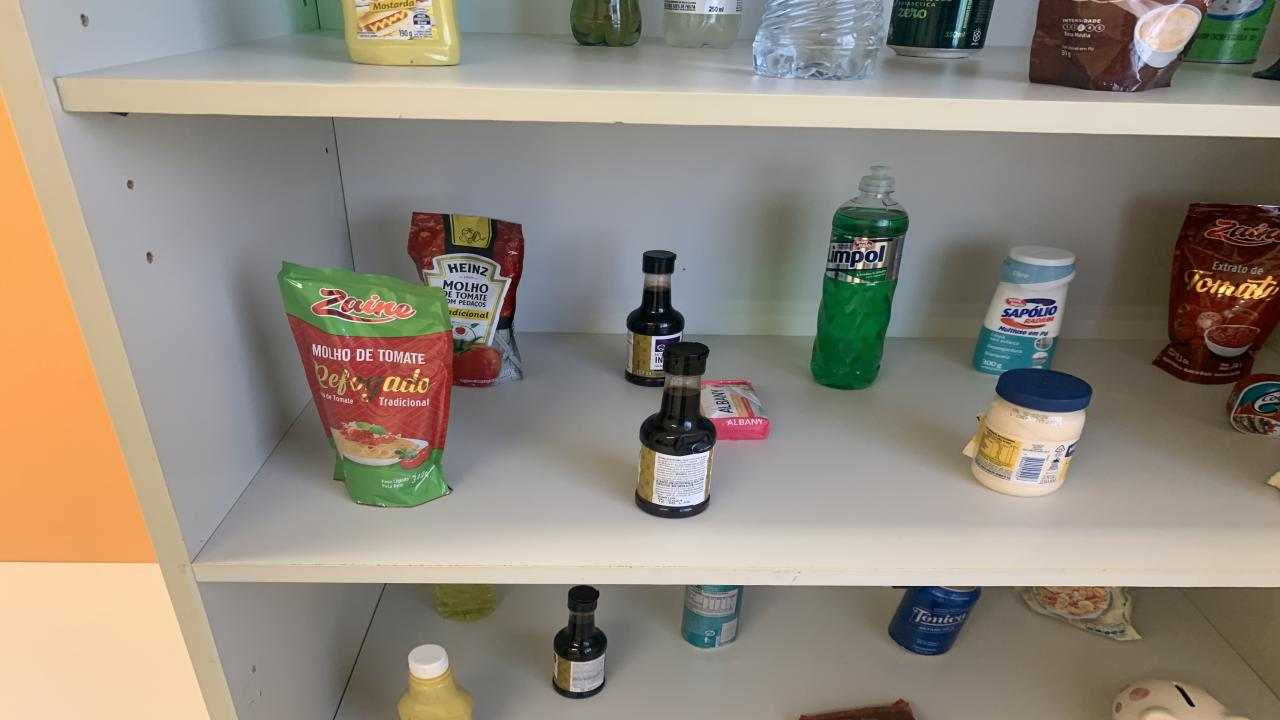Cleaner-Cleanup_Items: (972, 246, 1075, 375)
Coffee-Pantry_Items: (1030, 0, 1212, 92)
Detergent-Cleanup_Items: (810, 165, 910, 390), (435, 583, 498, 622)
English_Sauce-Pantry_Items: (635, 341, 715, 518), (625, 249, 685, 386), (552, 585, 608, 698)
Flakes-Snacks: (1018, 587, 1140, 641)
Guarana-Drinks: (570, 0, 642, 47)
Guarana_Can-Drinks: (888, 0, 992, 58)
Guava-Snacks: (800, 699, 915, 720)
Mayonnaise-Pantry_Items: (965, 368, 1092, 497)
Mustard-Pantry_Items: (342, 0, 460, 66), (398, 645, 472, 720)
Pig_Safe-Miscellaneous: (1112, 679, 1245, 720)
Pringles-Snacks: (1185, 0, 1275, 64)
Soap-Cleanup_Items: (700, 381, 770, 441)
Soda-Drinks: (662, 0, 742, 49)
Tea-Drinks: (680, 585, 742, 649)
Tomato_Sauce-Pantry_Items: (280, 262, 452, 506), (1152, 202, 1280, 384), (408, 212, 525, 388)
Tonic-Drinks: (888, 587, 980, 656)
Tuna_Can-Pantry_Items: (1228, 373, 1280, 437)
Water_Bottle-Drinks: (752, 0, 885, 81)
